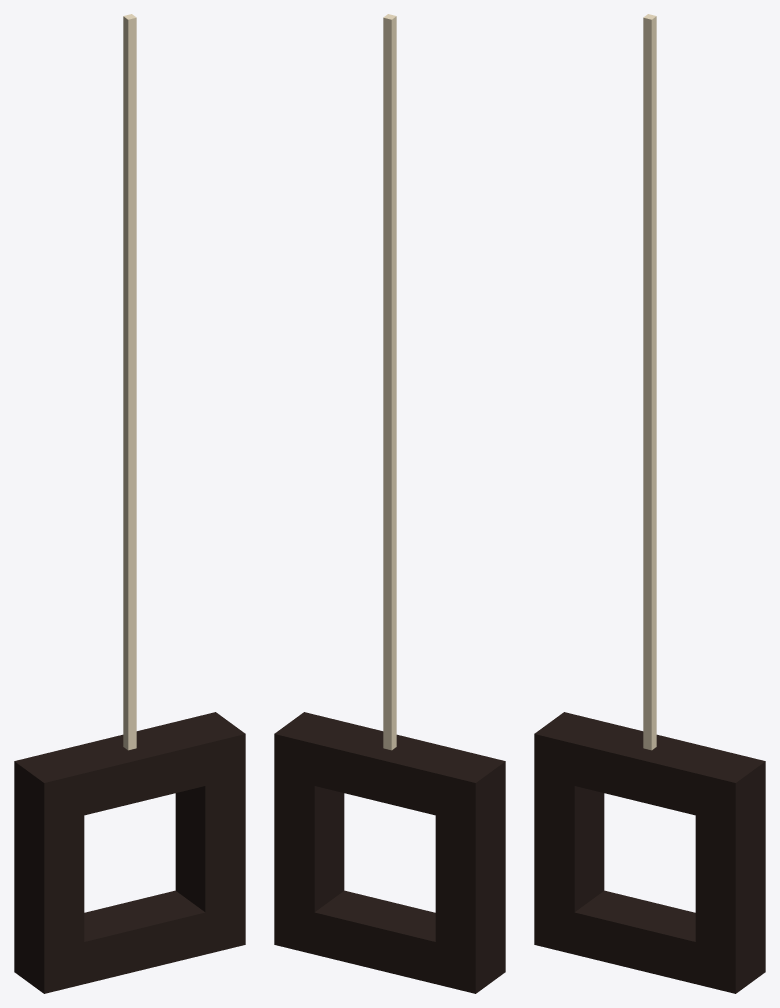
File: tire_swing.glb
3 renders of one model, left to right at view 1: azimuth 30°, elevation 25°; view 2: azimuth 150°, elevation 25°; view 3: azimuth 330°, elevation 25°, orthographic.
Parts seen in each view (by area): view 1: Box2, Box3, Box5, Box1, Box4; view 2: Box2, Box3, Box1, Box5, Box4; view 3: Box2, Box3, Box1, Box4, Box5.
Boxes of the visible parts, left/top/right/bottom form: Box2: left=14, top=712, right=245, bottom=825; Box3: left=14, top=890, right=245, bottom=993; Box5: left=14, top=782, right=84, bottom=972; Box1: left=123, top=14, right=136, bottom=750; Box4: left=175, top=755, right=245, bottom=933; Box2: left=274, top=712, right=505, bottom=825; Box3: left=274, top=890, right=505, bottom=993; Box1: left=383, top=14, right=396, bottom=750; Box5: left=435, top=782, right=505, bottom=972; Box4: left=274, top=755, right=344, bottom=932; Box2: left=534, top=712, right=765, bottom=825; Box3: left=534, top=890, right=765, bottom=993; Box1: left=643, top=14, right=656, bottom=750; Box4: left=695, top=782, right=765, bottom=972; Box5: left=534, top=755, right=604, bottom=932.
Bounding box in the file's own units: 0.7 × 3.13 × 0.18.
